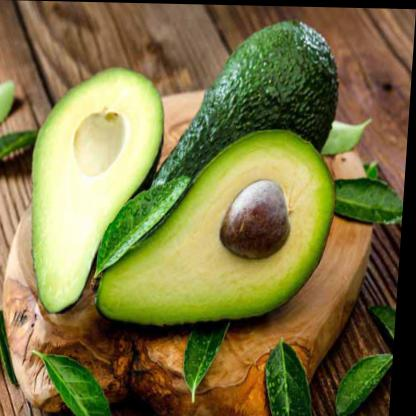avocado: (99, 126, 342, 328), (27, 65, 170, 315)
